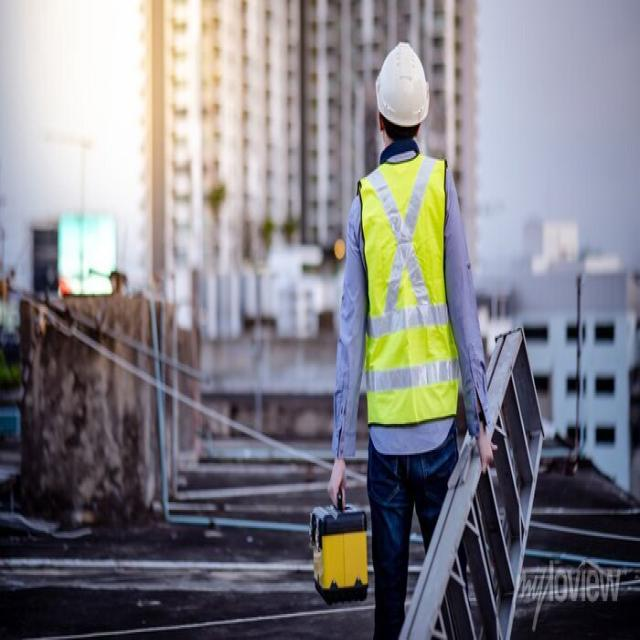helmet: (360, 41, 440, 129)
vest: (353, 151, 469, 438)
